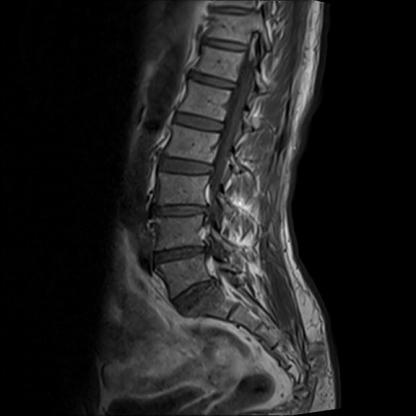Degenerative Disc Diseaserotation: (167, 284, 230, 311)
Disc Bulgerotation: (146, 240, 219, 267), (146, 200, 216, 227)
